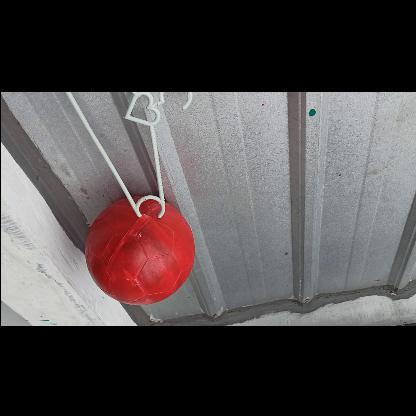red_ball: (83, 194, 194, 306)
